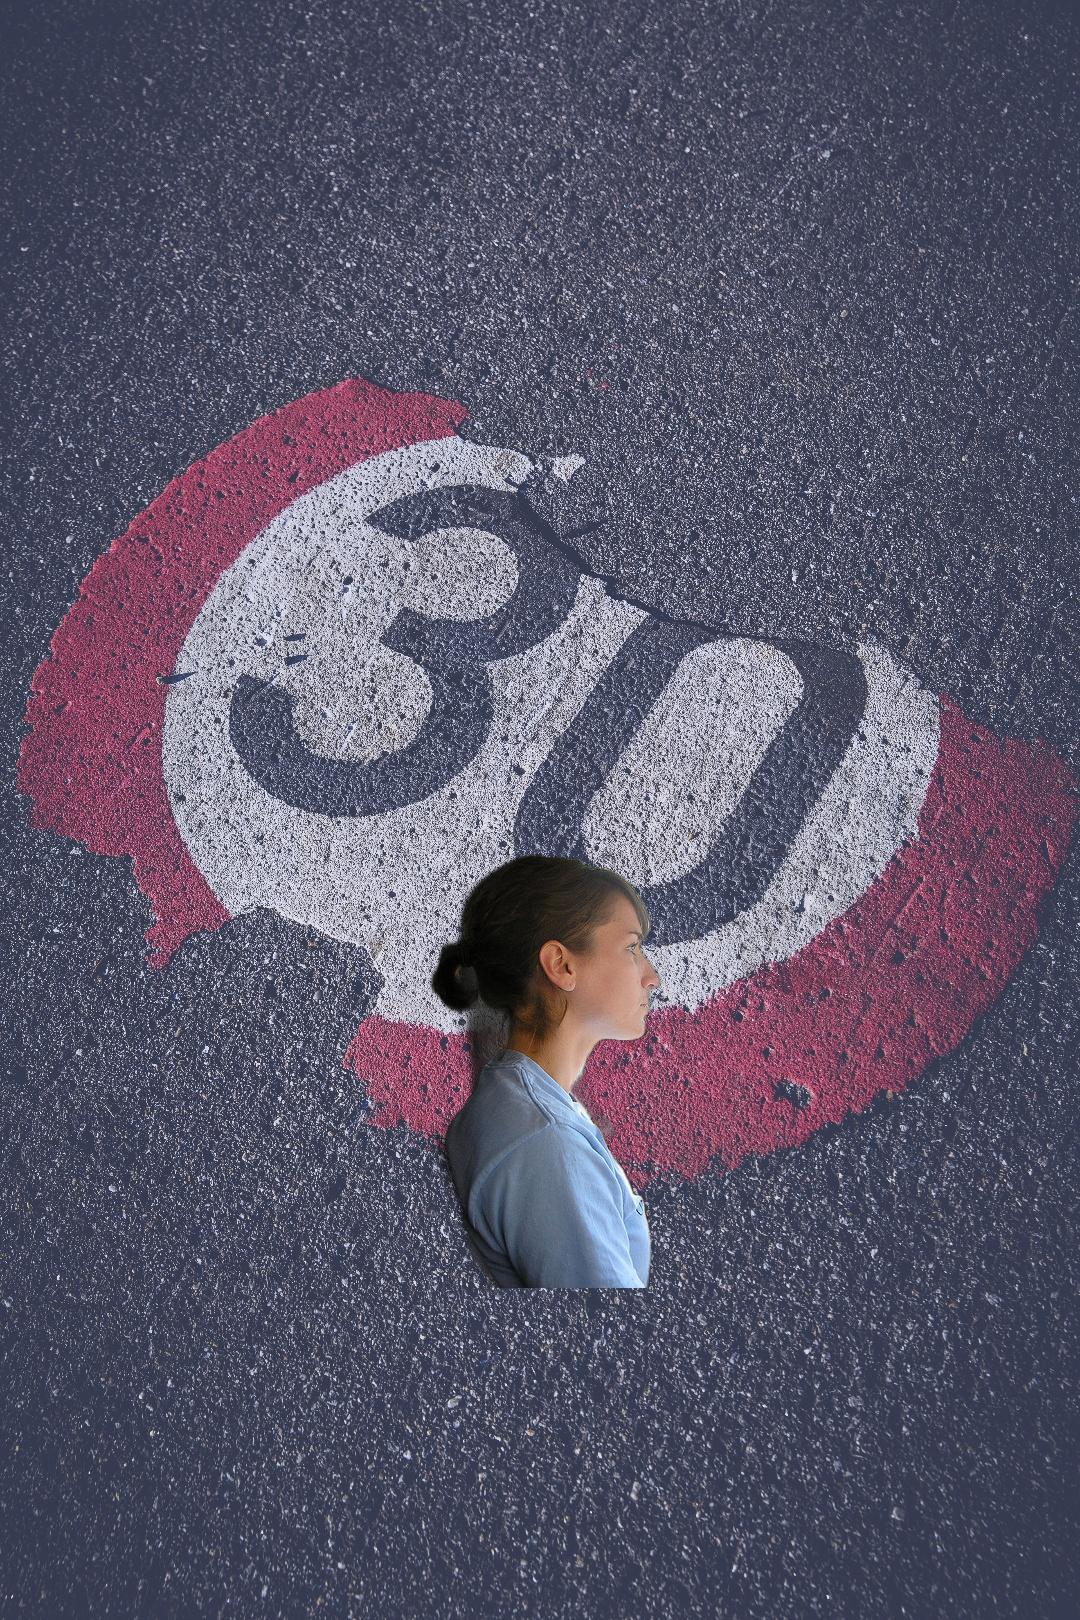trashbox-cardboard: (268, 837, 667, 1289)
